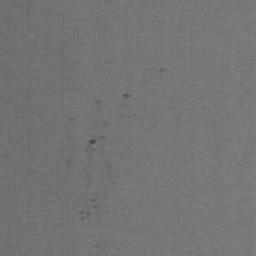Inclusion: (89, 136, 106, 144), (91, 198, 97, 209)
